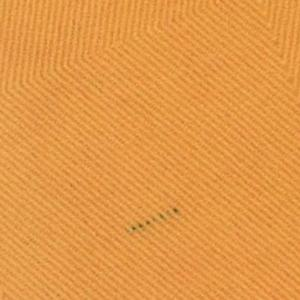stain: (122, 204, 185, 237)
